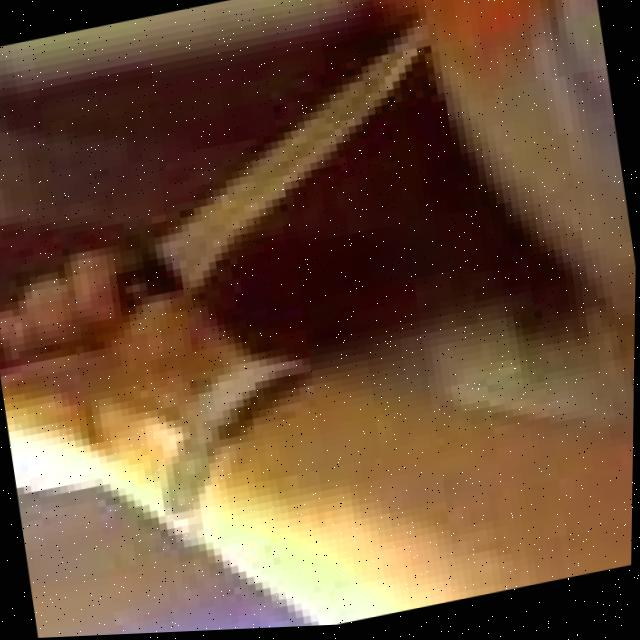knife: (104, 0, 482, 302)
